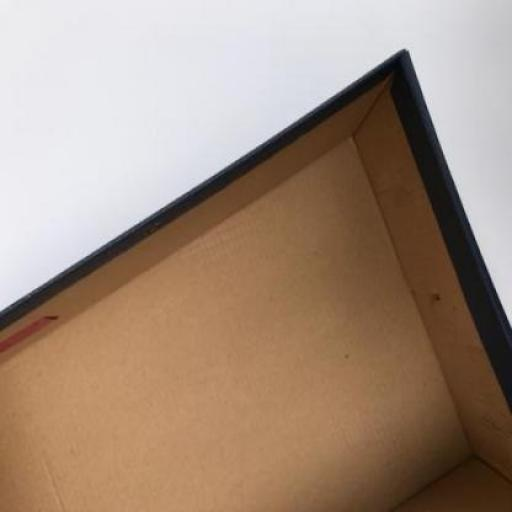cardboard: (0, 48, 511, 511)
